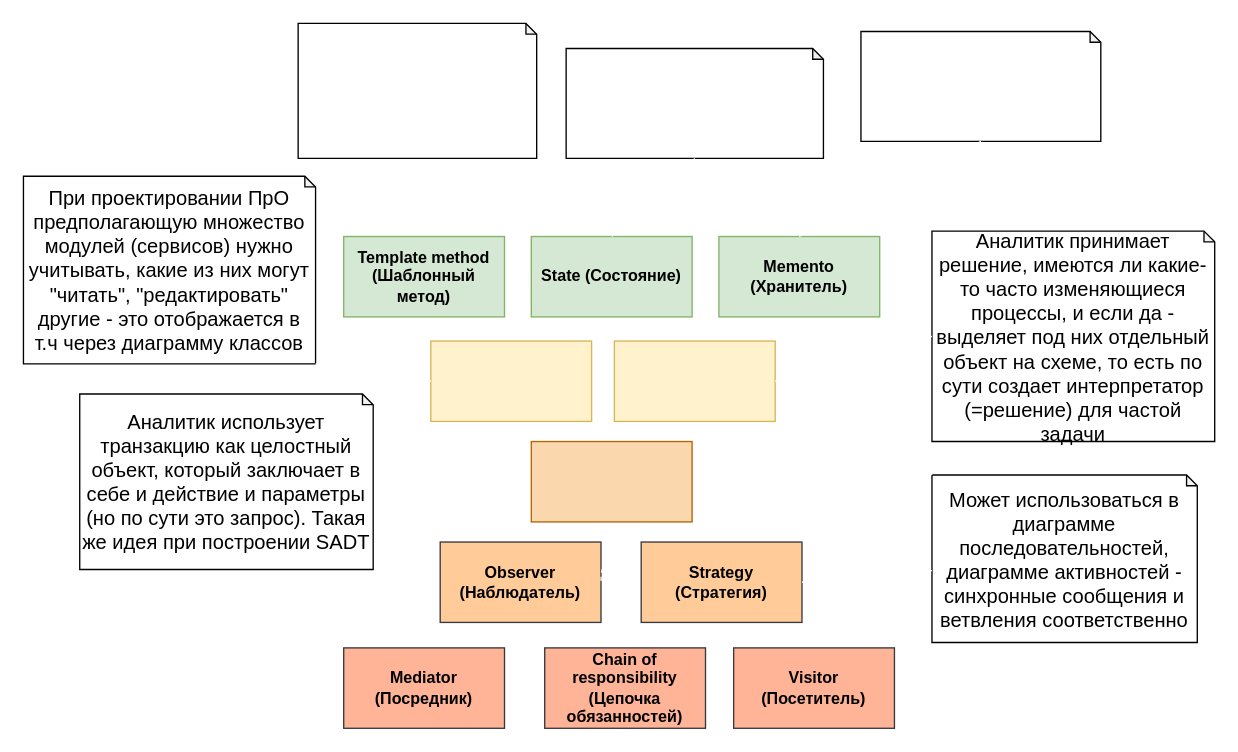
The diagram is 1238 pixels wide and 752 high, and some of its shapes have lost their labels. The box of each missing label's shape, as (x1, y1, x2, y2) in pixels:
Command (Команда): (530, 440, 692, 522)
Interpreter (Интерпретатор): (613, 340, 775, 421)
Iterator (Итератор): (429, 340, 592, 421)
Аналитик определяет "скелет" ПрО подобно определению "скелета"/шаблона алгоритма: (297, 22, 537, 158)
Аналитик учитывает систему бэкапов и сохранение состояний: (860, 30, 1101, 141)
Аналитику важно отслеживать поведение изменяющихся объектов в ПрО: (565, 47, 823, 158)
